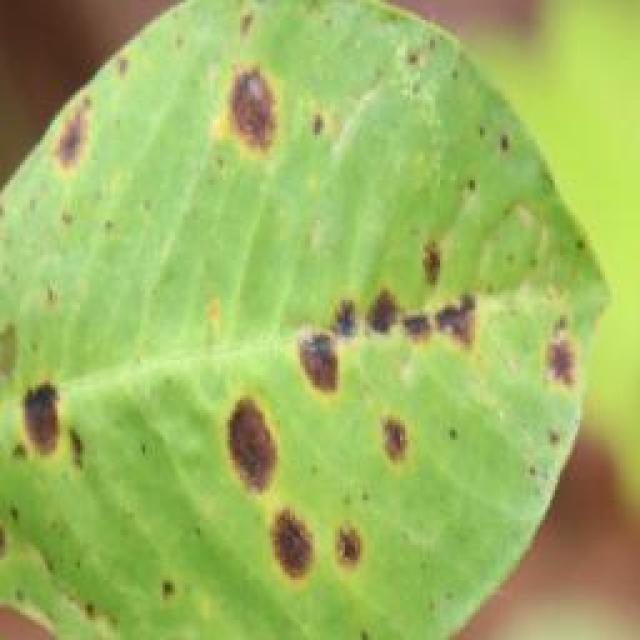Yellowish: (0, 42, 577, 640)
